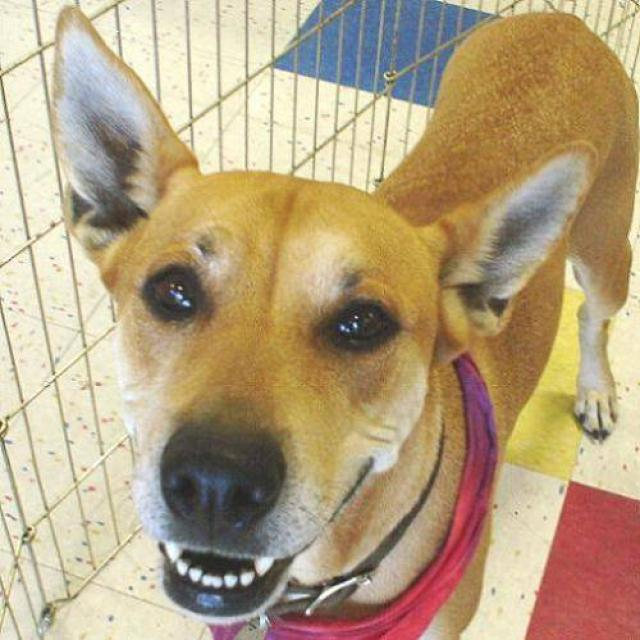dog: (46, 1, 639, 639)
